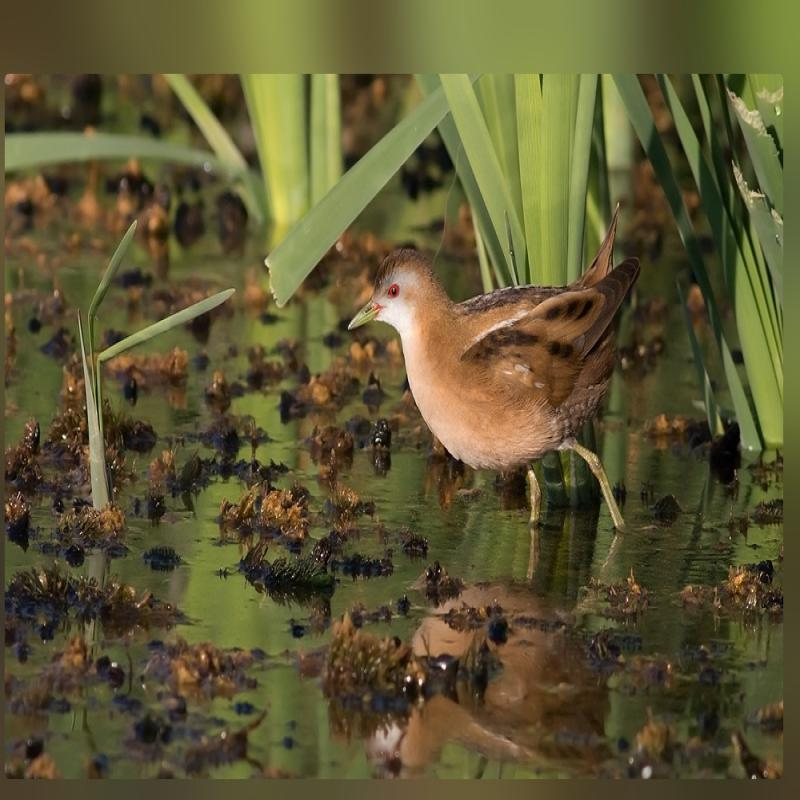little crake: (343, 192, 648, 542)
